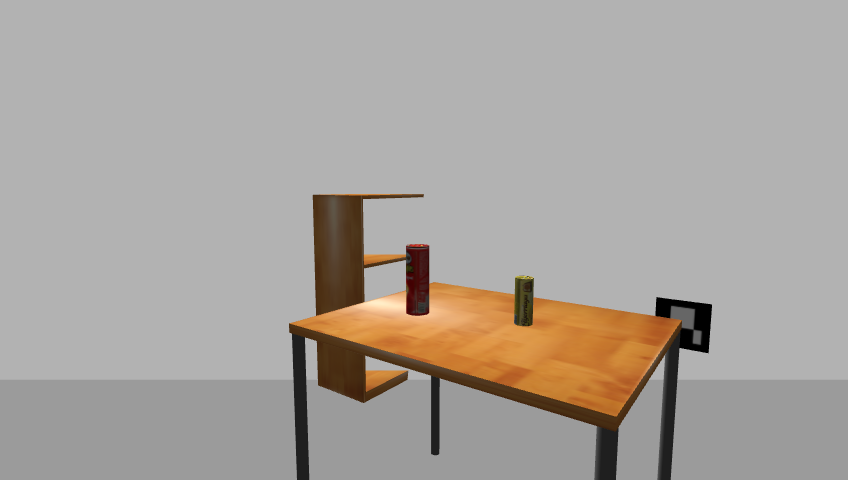aruco marker: (650, 295, 716, 355)
biscuits pack: (513, 276, 535, 328)
bookshelf: (307, 191, 430, 409)
dinner table: (284, 283, 691, 480)
pringles can: (403, 243, 432, 318)
